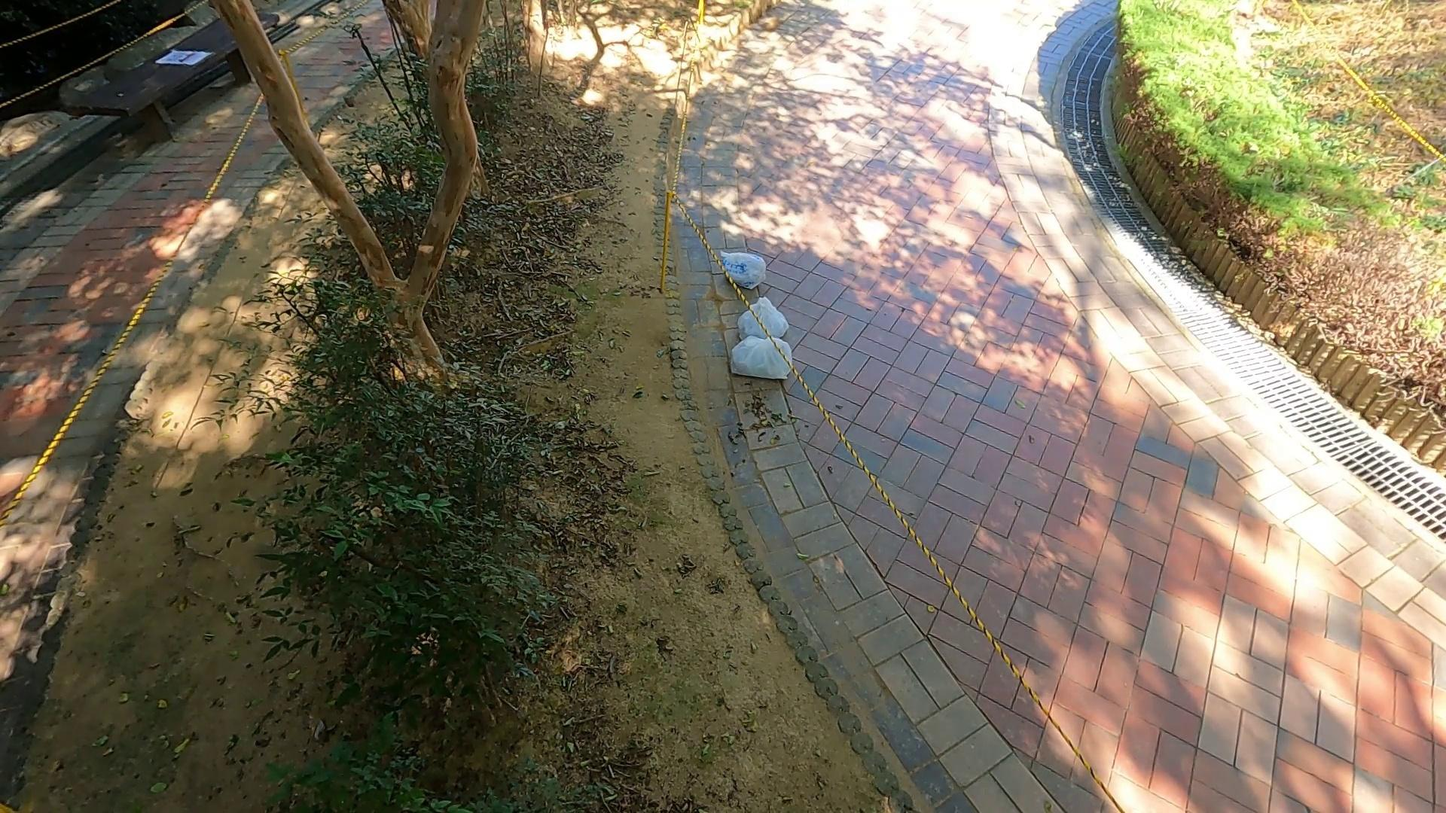trash: (728, 333, 796, 384), (739, 292, 790, 345), (718, 248, 769, 291)
